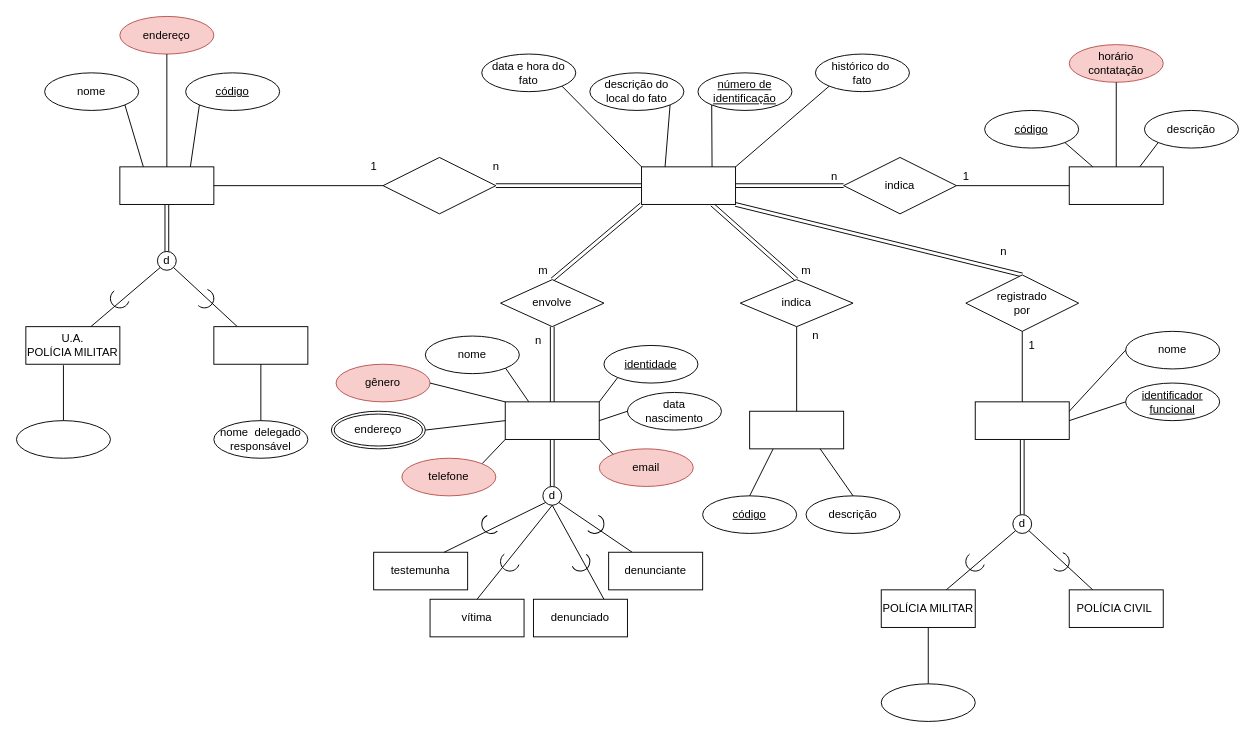
The diagram is 1255 pixels wide and 738 high, and some of its shapes have lost their labels. Each missing label, with the box of its shape:
BOLETIM DE OCORRÊNCIA: (641, 166, 736, 204)
CIDADÃOS ENVOLVIDOS: (504, 401, 599, 439)
ORIGEM DA COMUNICAÇÃO: (1068, 166, 1163, 204)
POLICIAL RESPONSÁVEL: (974, 401, 1069, 439)
posto: (880, 683, 975, 721)
registrado em: (382, 157, 496, 214)
TIPO DE OCORRÊNCIA: (749, 410, 844, 449)
tipo de unidade: (16, 420, 110, 458)
U.A. POLÍCIA CIVIL: (213, 326, 308, 364)
UNIDADE ADMNISTRATIVA (U.A.): (119, 166, 214, 204)
